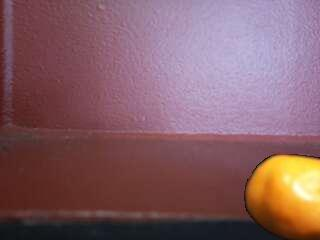Potato: (243, 154, 320, 240)
